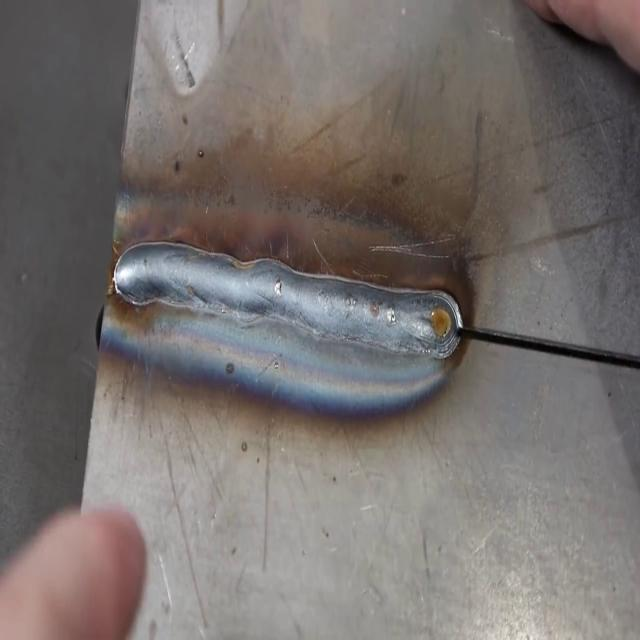Bad Welding: (114, 242, 462, 357)
